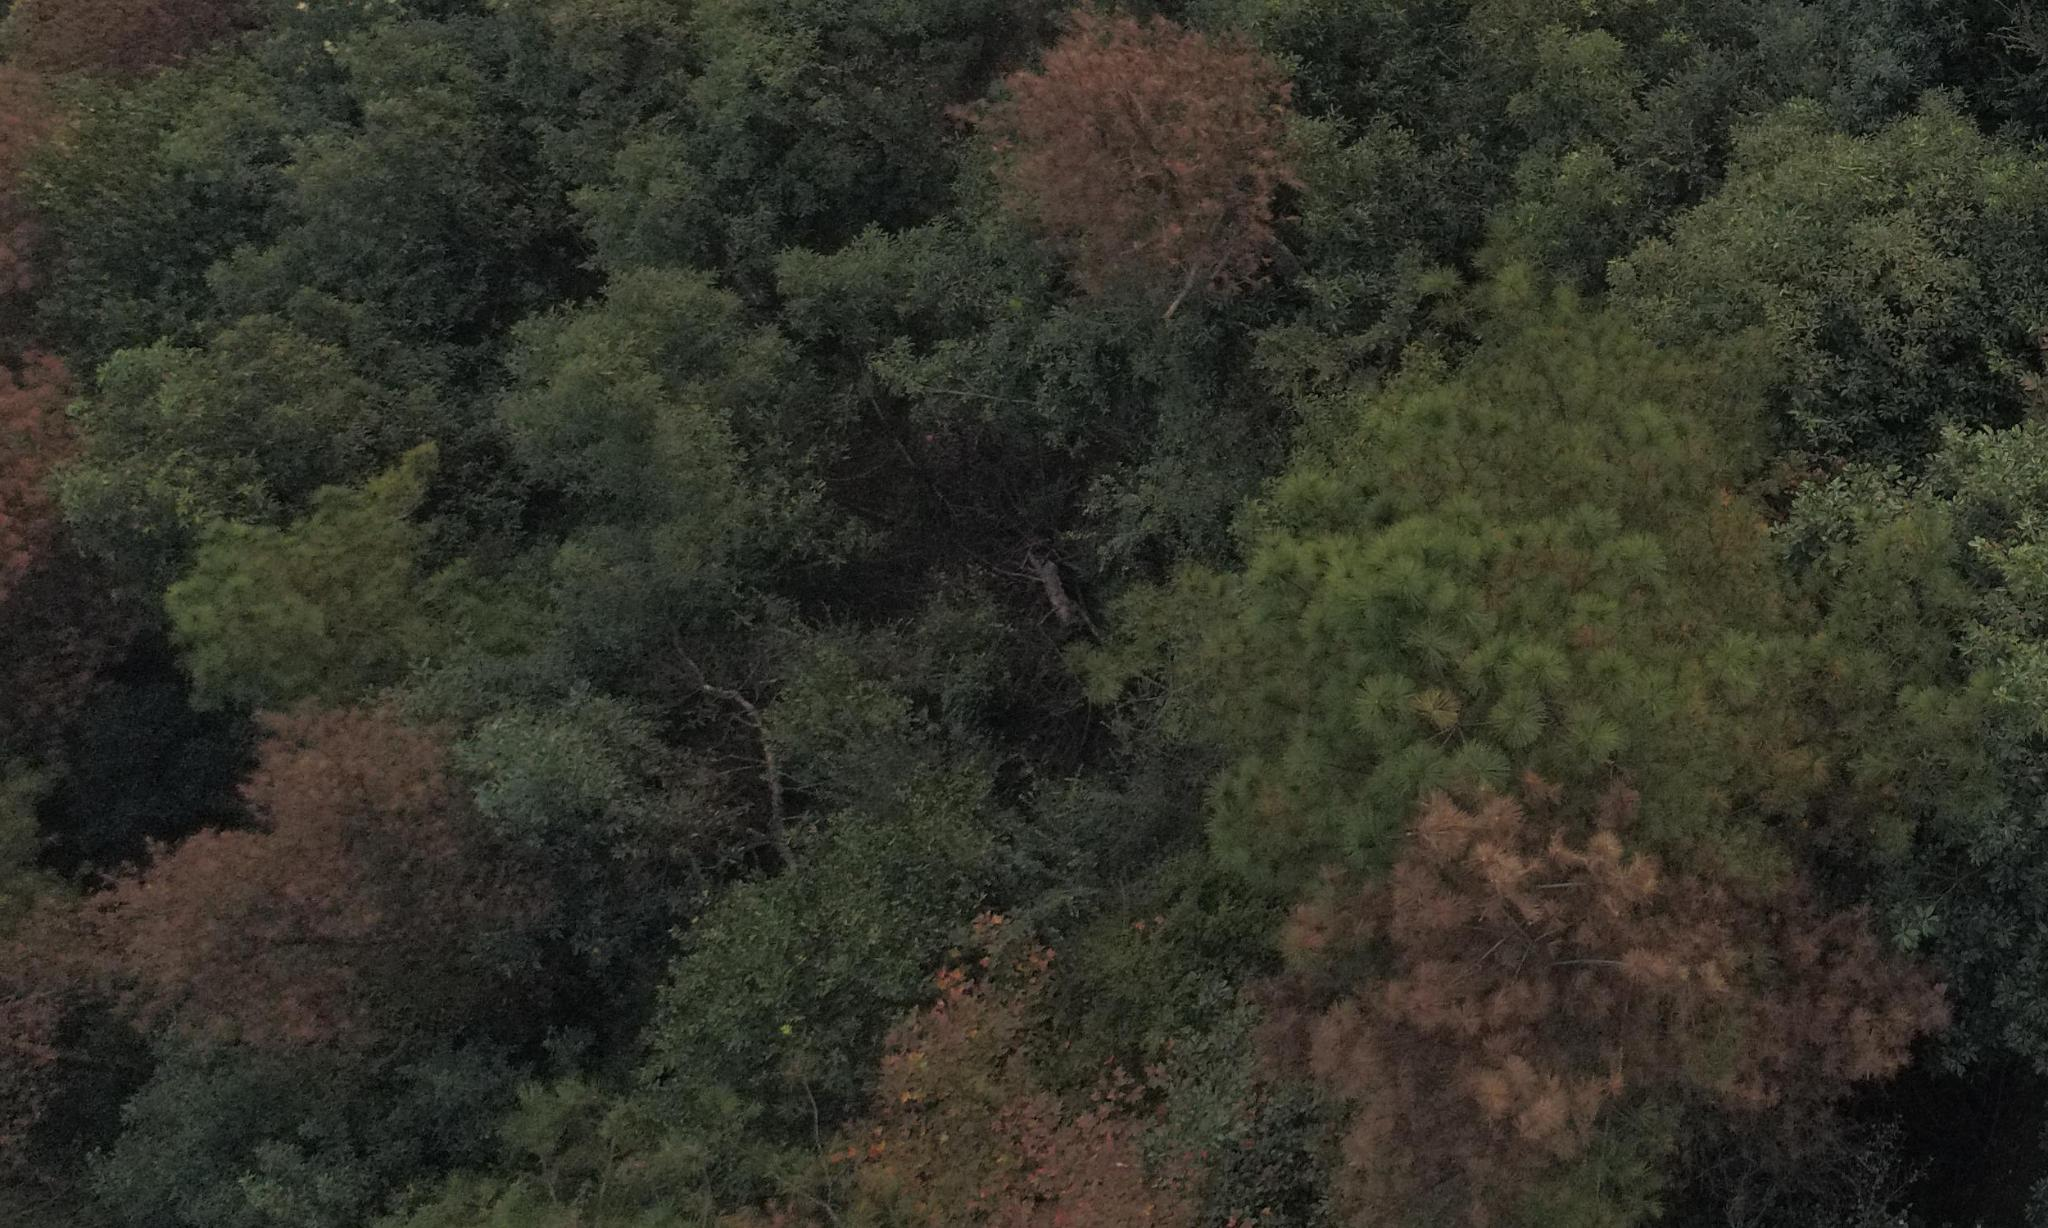heavy: (1256, 782, 1934, 1156), (57, 691, 465, 1057), (937, 12, 1273, 300)
